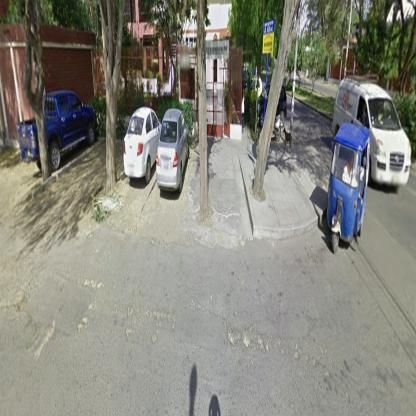Obstaculo: (227, 323, 285, 354), (36, 318, 56, 361), (146, 309, 177, 323), (84, 278, 105, 290), (78, 318, 90, 337), (128, 295, 136, 316), (126, 329, 136, 337), (152, 334, 158, 344)
Vehiculo: (327, 122, 371, 255), (157, 108, 190, 195), (125, 108, 162, 185)
